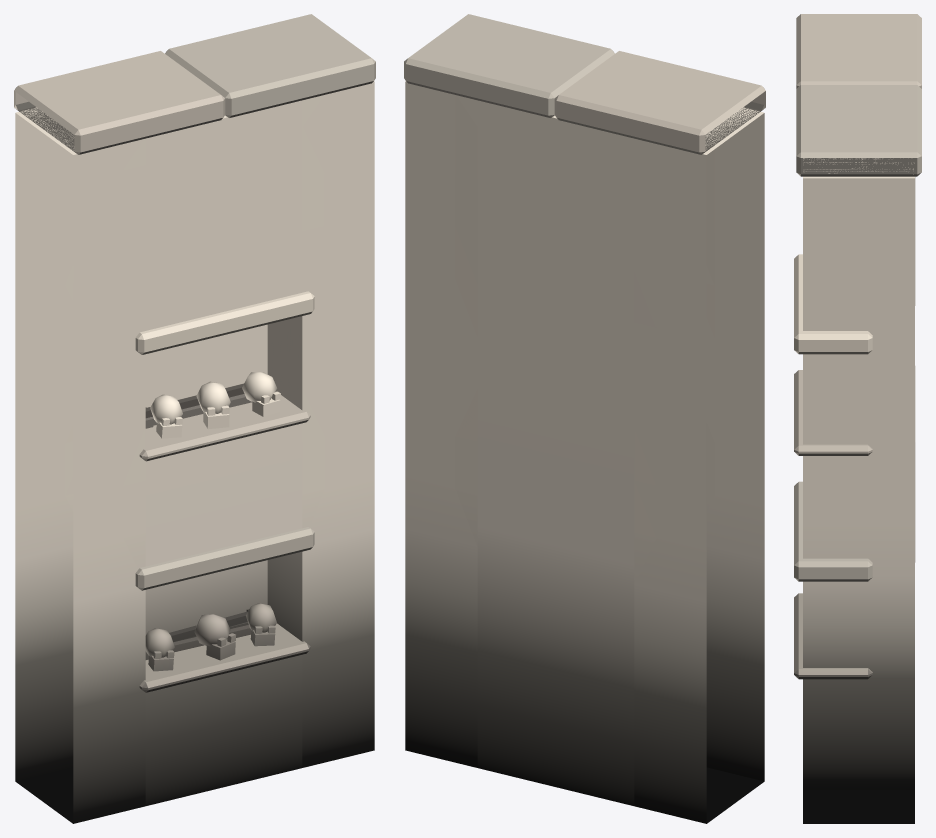
File: SM_VKI_Wall_Dungeon_Niche_150_Full.fbx
3 views of the same model, side by side, from view 1: azimuth 30°, elevation 25°; view 2: azimuth 150°, elevation 25°; view 3: azimuth 270°, elevation 25° (orthographic). The views are drawn at different scales.
Parts seen in each view (by area): view 1: SM_VKI_Wall_Dungeon_Niche_150_Full.001; view 2: SM_VKI_Wall_Dungeon_Niche_150_Full.001; view 3: SM_VKI_Wall_Dungeon_Niche_150_Full.001.
Boxes of the visible parts, left/top/right/bottom form: SM_VKI_Wall_Dungeon_Niche_150_Full.001: left=14, top=14, right=375, bottom=823; SM_VKI_Wall_Dungeon_Niche_150_Full.001: left=404, top=14, right=765, bottom=823; SM_VKI_Wall_Dungeon_Niche_150_Full.001: left=794, top=14, right=921, bottom=823.
Bounding box in the file's own units: 1.5 × 3.3 × 0.57.
